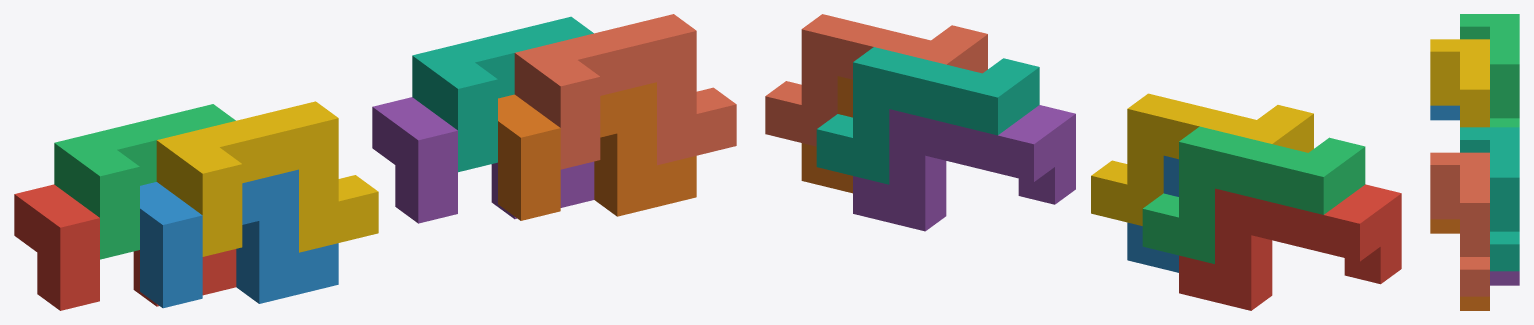
Rendered from tiling.obj.
The picture shows the model from 3 angles, left to right: view 1: azimuth 30°, elevation 25°; view 2: azimuth 150°, elevation 25°; view 3: azimuth 270°, elevation 25°; orthographic projection. The views are drawn at different scales.
Visible parts, largest first — view 1: copy_1_domain_8, copy_1_domain_4, copy_1_domain_2, copy_1_domain_6, copy_1_domain_7, copy_1_domain_3, copy_1_domain_1, copy_1_domain_5; view 2: copy_1_domain_1, copy_1_domain_5, copy_1_domain_7, copy_1_domain_3, copy_1_domain_4, copy_1_domain_8, copy_1_domain_6, copy_1_domain_2; view 3: copy_1_domain_8, copy_1_domain_7, copy_1_domain_4, copy_1_domain_3, copy_1_domain_6, copy_1_domain_2, copy_1_domain_5.
Part boxes in pixels (x1=…): copy_1_domain_8: x1=514, y1=14, x2=736, y2=169; copy_1_domain_4: x1=156, y1=101, x2=378, y2=256; copy_1_domain_2: x1=140, y1=169, x2=338, y2=308; copy_1_domain_6: x1=498, y1=82, x2=696, y2=220; copy_1_domain_7: x1=412, y1=16, x2=593, y2=172; copy_1_domain_3: x1=54, y1=104, x2=235, y2=259; copy_1_domain_1: x1=14, y1=184, x2=236, y2=310; copy_1_domain_5: x1=372, y1=97, x2=594, y2=223; copy_1_domain_1: x1=1179, y1=184, x2=1401, y2=310; copy_1_domain_5: x1=853, y1=105, x2=1075, y2=231; copy_1_domain_7: x1=816, y1=47, x2=1039, y2=184; copy_1_domain_3: x1=1142, y1=126, x2=1365, y2=263; copy_1_domain_4: x1=1091, y1=93, x2=1313, y2=225; copy_1_domain_8: x1=765, y1=14, x2=987, y2=146; copy_1_domain_6: x1=801, y1=76, x2=852, y2=193; copy_1_domain_2: x1=1127, y1=155, x2=1178, y2=272; copy_1_domain_8: x1=1430, y1=152, x2=1489, y2=296; copy_1_domain_7: x1=1460, y1=127, x2=1519, y2=271; copy_1_domain_4: x1=1430, y1=39, x2=1489, y2=127; copy_1_domain_3: x1=1460, y1=14, x2=1519, y2=127; copy_1_domain_6: x1=1430, y1=219, x2=1489, y2=310; copy_1_domain_2: x1=1430, y1=105, x2=1459, y2=120; copy_1_domain_5: x1=1490, y1=271, x2=1519, y2=285.
Bounding box in the file's own units: 17 × 4 × 3.
